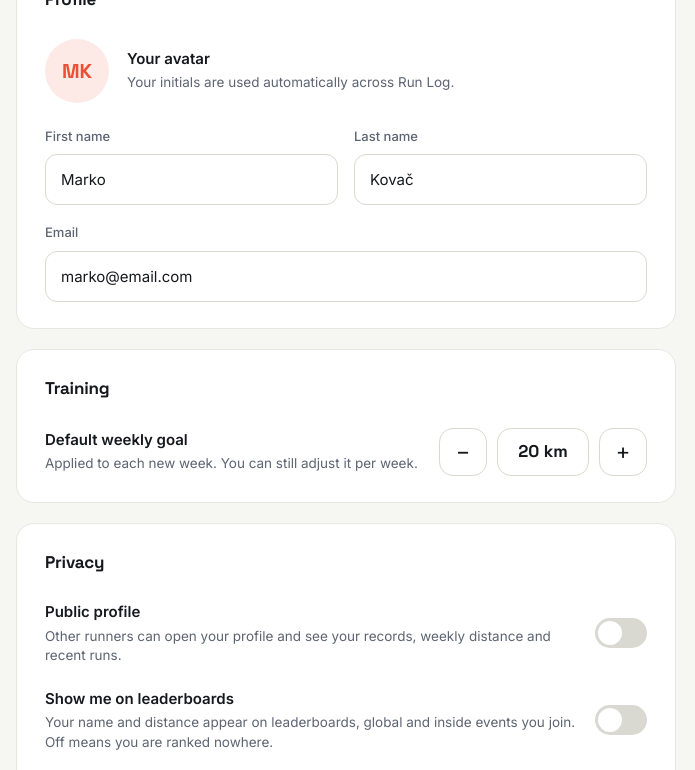
Test: Settings profile card (RUN-37) › rejects an emptied first name with an inline message and persists nothing (AC3)
Clear the field labelled "First name" at [192, 180], box x1=45 y1=154 x2=338 y2=205
(page scrolled)
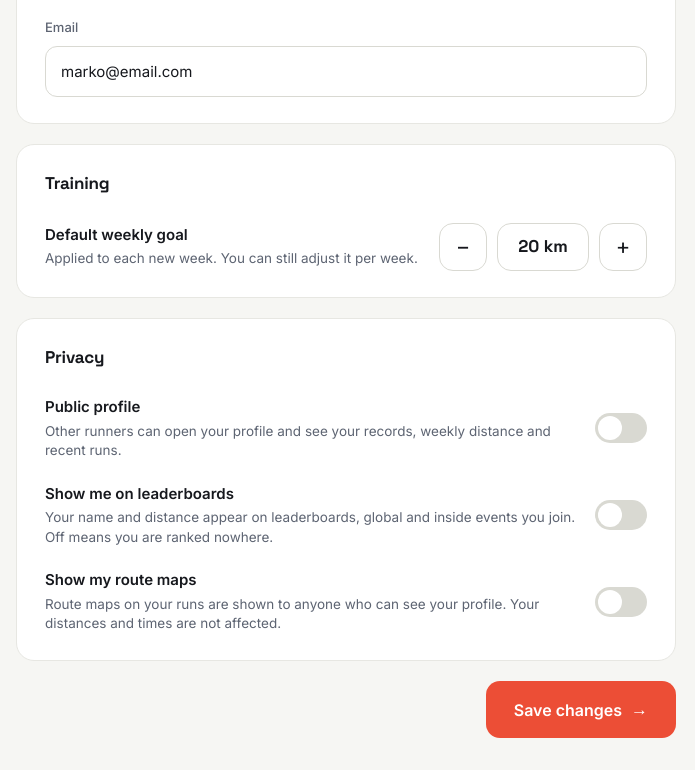
Click the button "Save changes →".
click(581, 710)  # box x1=486 y1=681 x2=676 y2=738
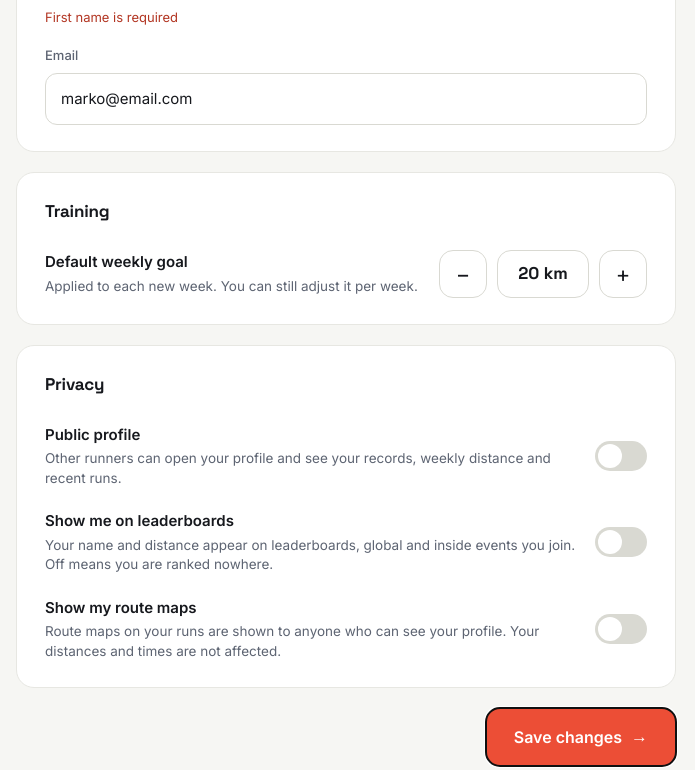
Expected: the message reads "First name is required", x1=45 y1=9 x2=178 y2=25
